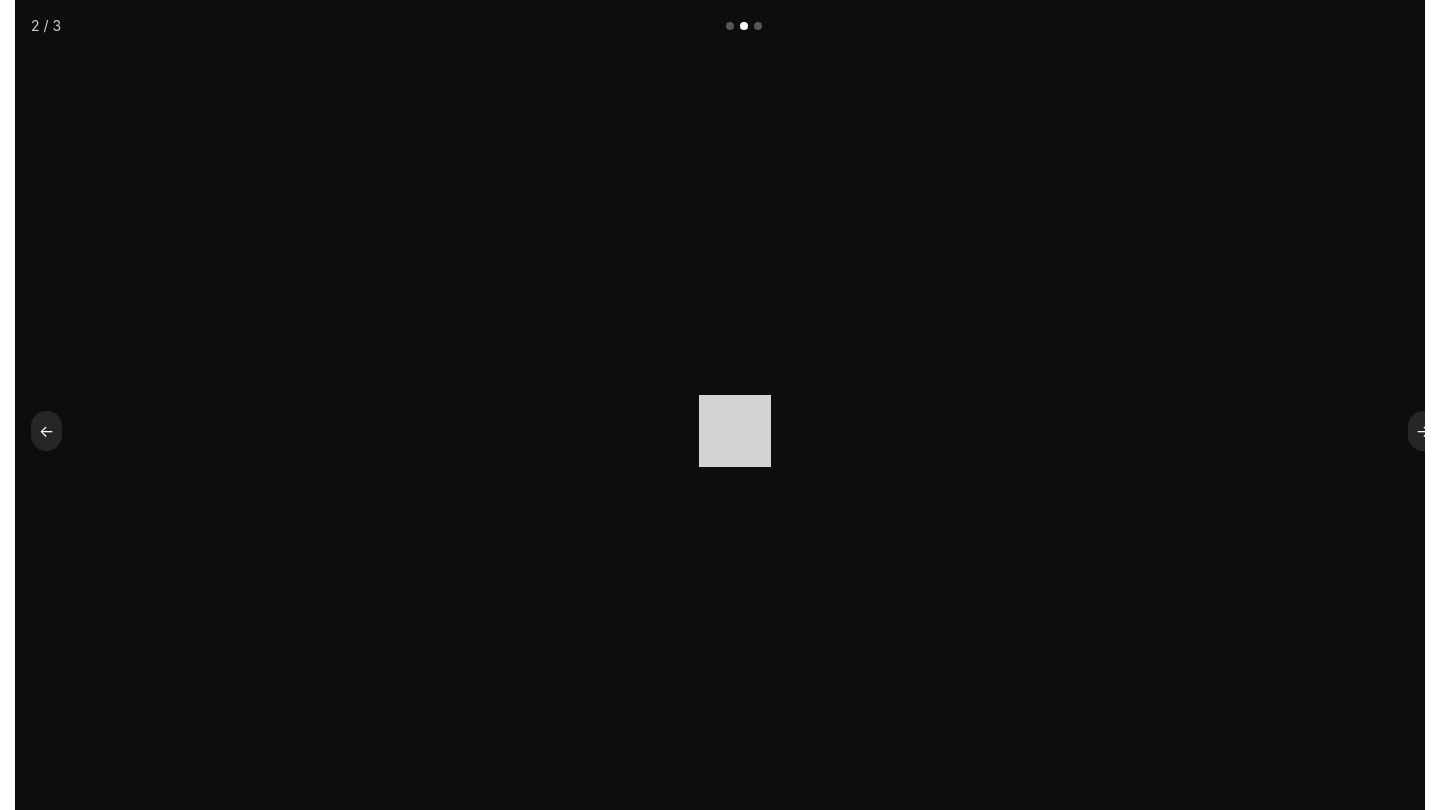
Test: Lightbox › prev button navigates to previous image
The image size is (1440, 810).
Expected: the text "2 / 3" is shown, [31, 16, 61, 36]
What coordinates should you click on to do the following:
click the button named "Previous"
I would click on:
 (47, 431)
Its box is [31, 411, 62, 451].
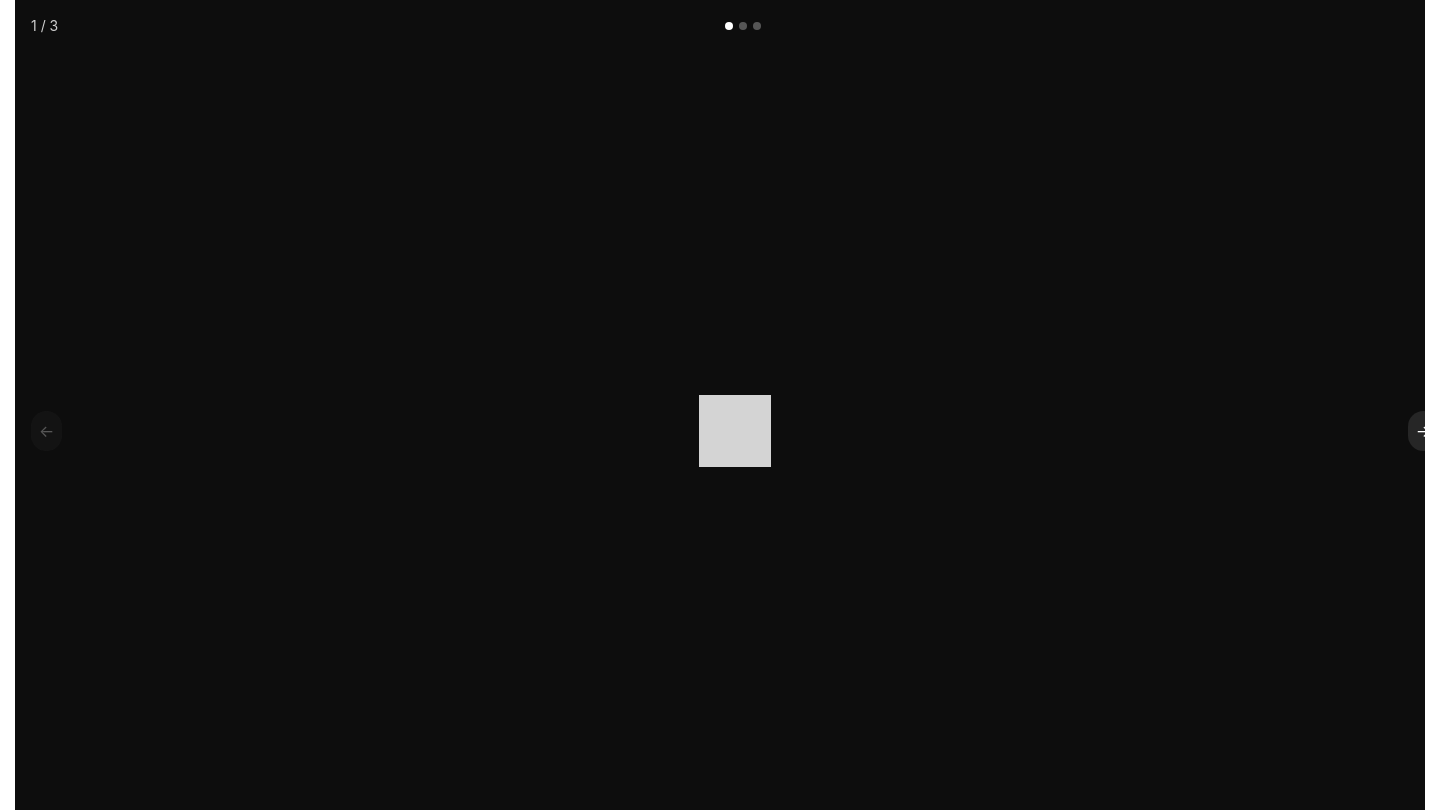
Expected: the text "1 / 3" is shown, [31, 16, 58, 36]
